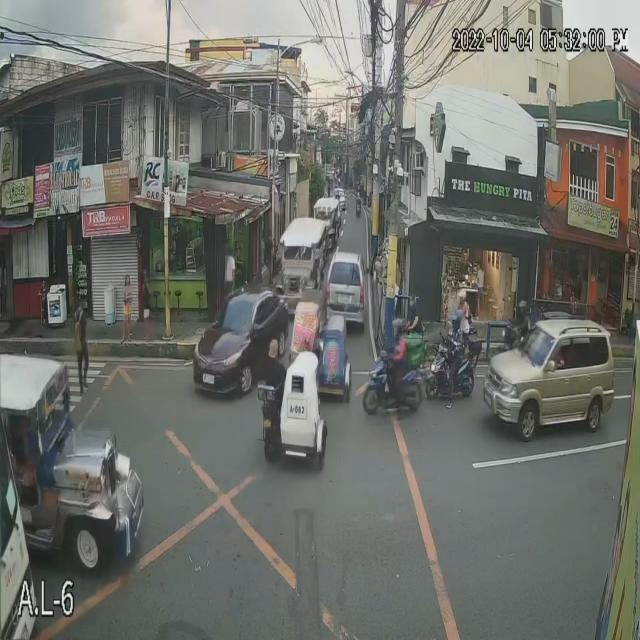half: (391, 318, 405, 344), (451, 311, 461, 333)
